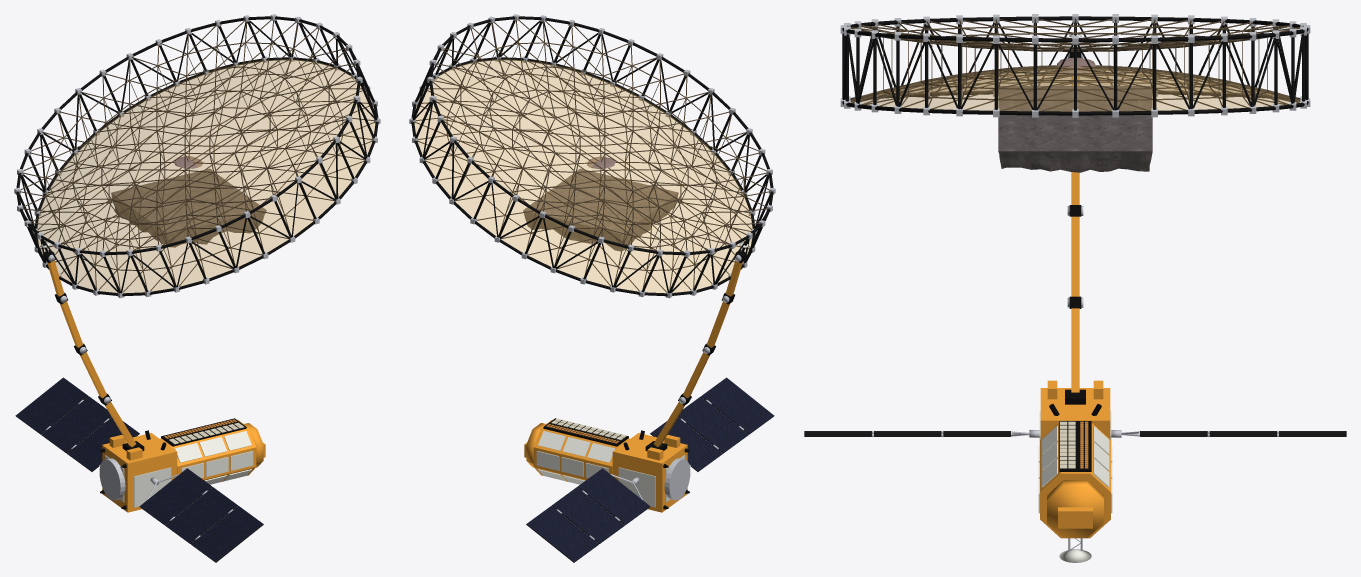
Rendered from saah.glb.
3 views of the same model, side by side, from view 1: azimuth 30°, elevation 25°; view 2: azimuth 150°, elevation 25°; view 3: azimuth 270°, elevation 25° (orthographic). The views are drawn at different scales.
Visible parts, largest first — view 1: NISAR, Bedrock; view 2: NISAR, Bedrock; view 3: NISAR, Bedrock.
Part boxes in pixels (box(x1,y1,x2,y2)): NISAR: box(14, 14, 380, 562); Bedrock: box(111, 168, 266, 247); NISAR: box(409, 14, 775, 562); Bedrock: box(523, 168, 678, 251); NISAR: box(804, 14, 1346, 562); Bedrock: box(998, 86, 1152, 172).
Bounding box in the file's own units: 12.9 × 17.62 × 14.05.
Materials: 13 (2 with a texture image).
